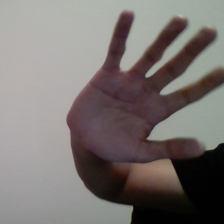left: (64, 7, 224, 166)
